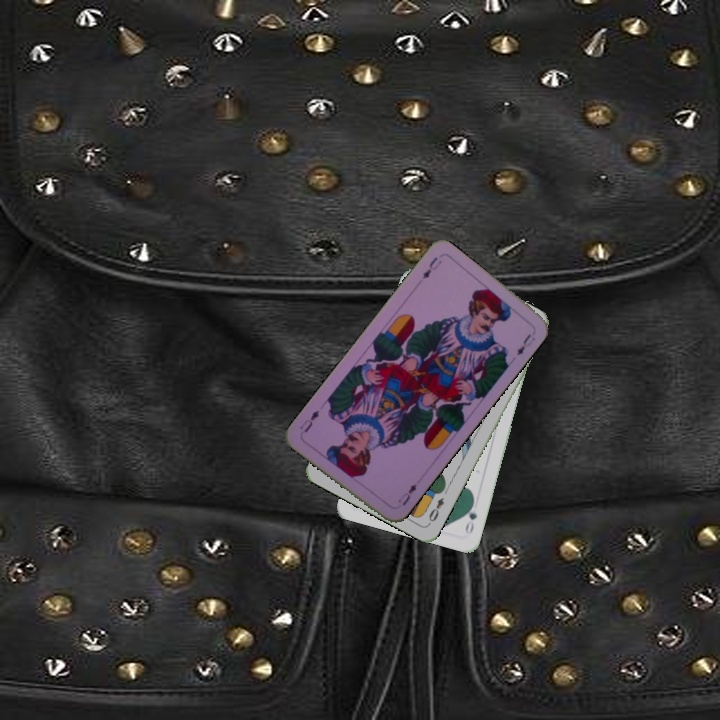EO: (424, 493, 447, 527)
EU: (418, 253, 444, 282), (394, 480, 420, 508)
GO: (461, 496, 480, 536)
